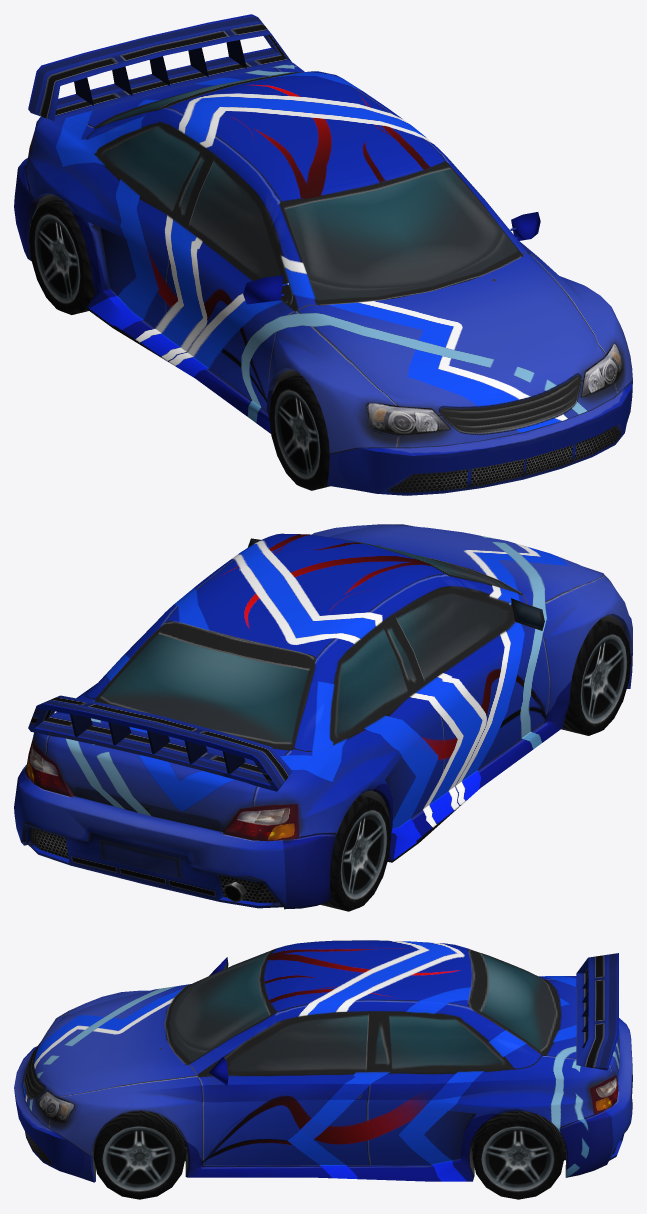
3 views of the same model, one above another, from view 1: azimuth 30°, elevation 25°; view 2: azimuth 150°, elevation 25°; view 3: azimuth 270°, elevation 25° (orthographic). The views are drawn at different scales.
Parts seen in each view (by area): view 1: player_chassis, veh_wheel_b, veh_wheel_fr; view 2: player_chassis, veh_wheel_fr, veh_wheel_b; view 3: player_chassis, veh_wheel_b, veh_wheel_fl.
Boxes of the visible parts, <box> form: player_chassis: <box>14,14,632,495</box>; veh_wheel_b: <box>29,199,95,314</box>; veh_wheel_fr: <box>269,374,329,490</box>; player_chassis: <box>14,524,632,909</box>; veh_wheel_fr: <box>561,619,631,735</box>; veh_wheel_b: <box>320,795,391,911</box>; player_chassis: <box>14,940,632,1182</box>; veh_wheel_b: <box>472,1111,564,1199</box>; veh_wheel_fl: <box>93,1111,185,1199</box>.
Size of the model in its own units: 198 by 137 by 438.
